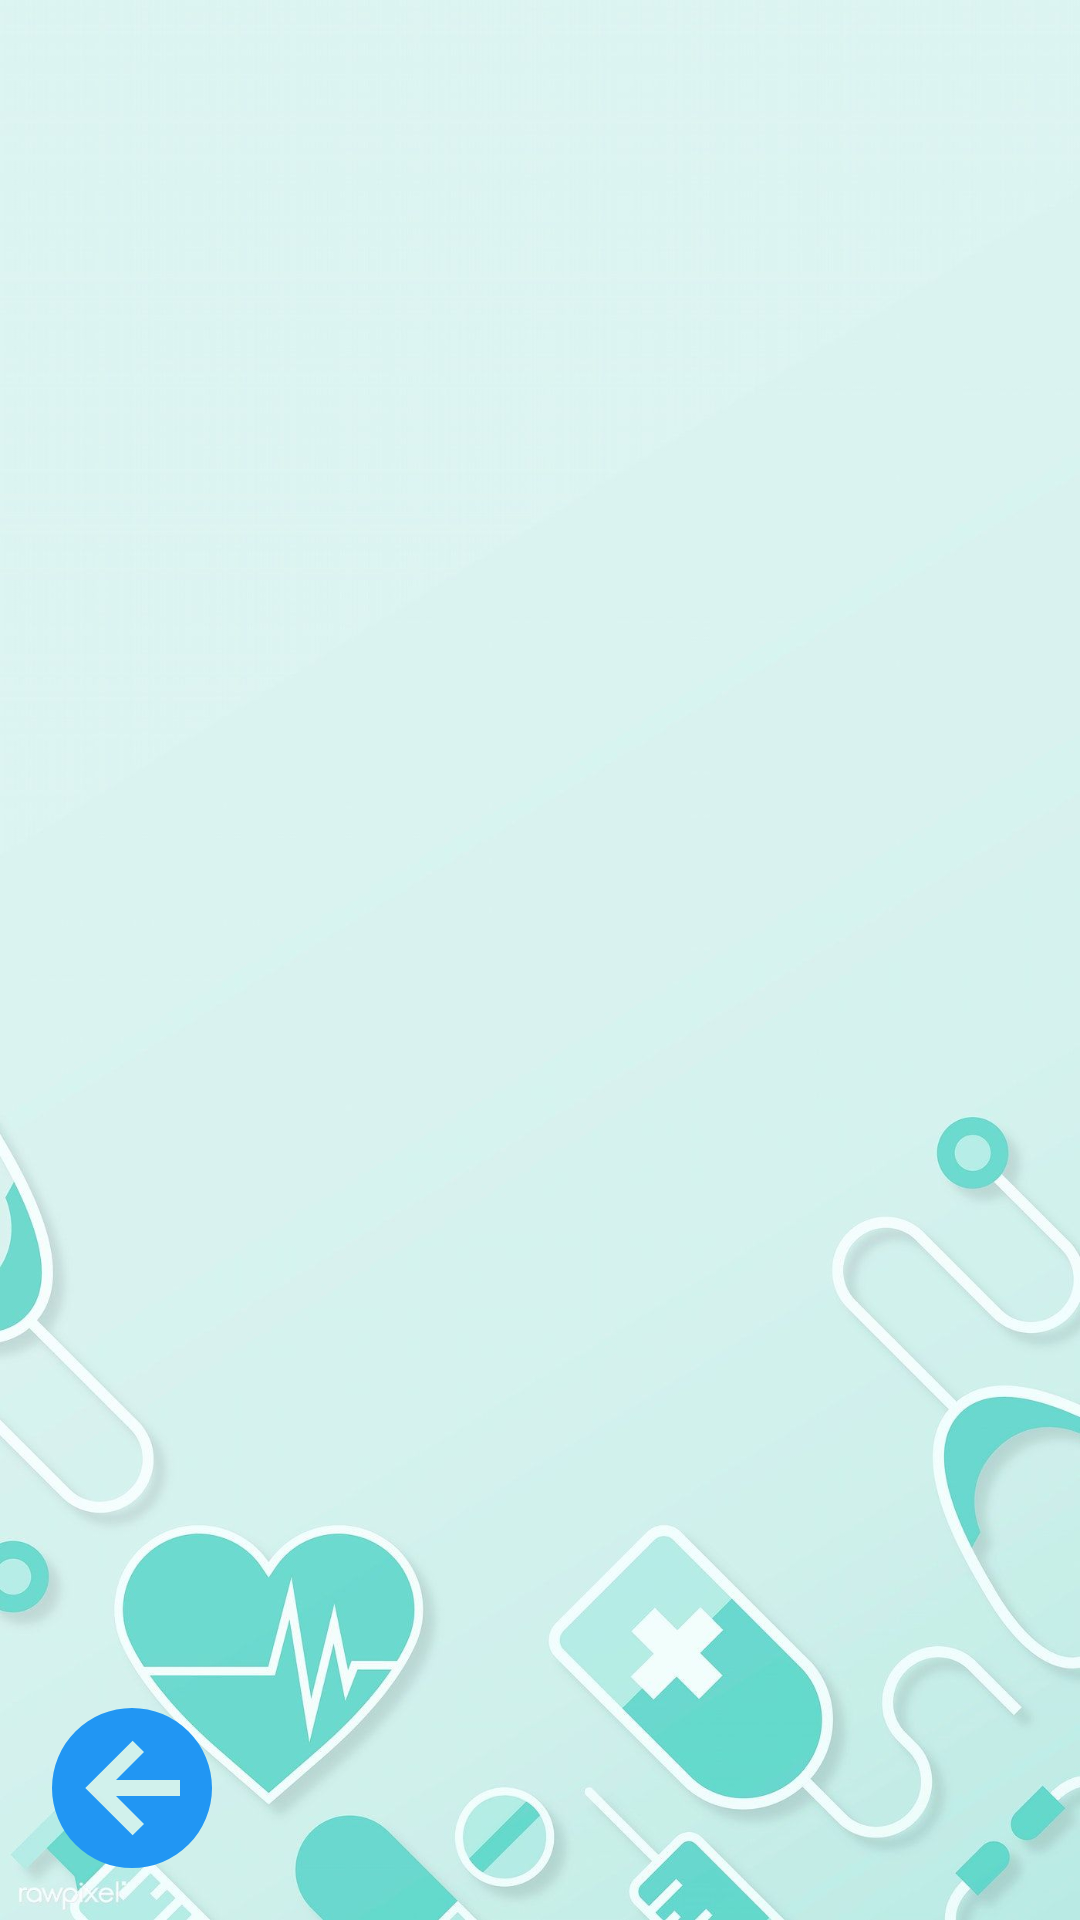

Icon bounding boxes for this 1080x1920 phone screenshot, format (x1, y1, x2, y2):
Volver: (48, 1704, 216, 1872)
